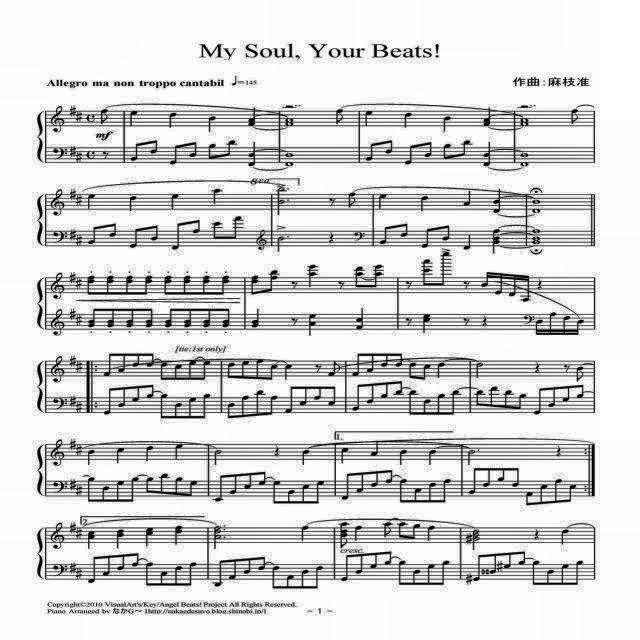Bass-clef: (52, 228, 66, 244), (50, 395, 66, 409), (51, 562, 65, 578), (51, 146, 64, 160), (522, 314, 534, 326), (52, 480, 64, 492), (353, 231, 365, 241)
Diez: (74, 484, 86, 496), (67, 104, 77, 118), (68, 188, 78, 200), (68, 354, 78, 366), (74, 401, 84, 413), (74, 528, 84, 540), (68, 562, 78, 574), (463, 572, 473, 584), (76, 110, 84, 124), (70, 145, 78, 159), (76, 193, 84, 207), (68, 478, 76, 492), (68, 438, 78, 449), (69, 523, 79, 533), (76, 150, 84, 162), (70, 228, 78, 240), (76, 234, 84, 246), (68, 272, 76, 284), (76, 278, 84, 290), (68, 308, 76, 320), (75, 361, 83, 373), (68, 394, 76, 406), (75, 445, 83, 457), (76, 568, 84, 580), (496, 560, 504, 572), (77, 314, 83, 326), (466, 535, 472, 545)
Eighth-note: (436, 250, 450, 286), (168, 142, 188, 166), (172, 221, 188, 251), (446, 390, 462, 418), (284, 386, 300, 414), (196, 392, 212, 420), (102, 387, 118, 415), (86, 476, 102, 504), (340, 472, 356, 500), (467, 466, 483, 494), (214, 559, 230, 587), (225, 216, 243, 240), (533, 386, 547, 416), (88, 554, 102, 584), (270, 564, 286, 590), (570, 559, 586, 585), (352, 383, 366, 412), (404, 143, 422, 165), (129, 227, 147, 249), (159, 392, 173, 420), (215, 474, 229, 502), (341, 554, 355, 582), (408, 390, 424, 414), (350, 352, 366, 376), (186, 396, 202, 420), (438, 478, 454, 502), (228, 556, 244, 580), (436, 560, 452, 584), (125, 477, 139, 503), (397, 560, 411, 586), (531, 560, 545, 586), (129, 142, 147, 162), (508, 393, 528, 411), (260, 363, 280, 381), (422, 227, 438, 249), (378, 224, 394, 246), (264, 395, 280, 417), (196, 359, 212, 381), (174, 476, 190, 498), (252, 390, 264, 418), (271, 480, 285, 504), (145, 562, 159, 586), (183, 562, 197, 586), (310, 565, 324, 589), (311, 481, 325, 504), (211, 280, 231, 296), (482, 467, 498, 487), (562, 483, 578, 503), (400, 478, 412, 504), (426, 562, 439, 586), (362, 383, 376, 405), (187, 359, 201, 381), (301, 483, 315, 505), (163, 279, 180, 297), (89, 308, 108, 324), (115, 481, 128, 504), (434, 226, 452, 242), (124, 279, 140, 297), (165, 308, 183, 324), (185, 308, 203, 324), (203, 308, 221, 324), (262, 276, 280, 292), (368, 271, 384, 289), (436, 392, 448, 416), (104, 352, 116, 376), (160, 472, 172, 496), (230, 472, 242, 496), (356, 471, 369, 493), (366, 142, 380, 162), (458, 138, 472, 158), (88, 225, 102, 245), (241, 360, 255, 380), (538, 484, 552, 504), (474, 554, 484, 582), (490, 386, 502, 409), (208, 144, 225, 160), (182, 479, 198, 496), (544, 386, 556, 408), (325, 385, 337, 407), (254, 359, 266, 381), (428, 481, 440, 503), (560, 564, 572, 586), (554, 478, 564, 504), (86, 280, 102, 296), (138, 280, 154, 296), (108, 308, 124, 324), (126, 308, 142, 324), (138, 308, 154, 324), (214, 308, 230, 324), (388, 380, 404, 396), (406, 523, 422, 539), (416, 364, 432, 380), (222, 139, 236, 157), (212, 222, 226, 240), (559, 385, 573, 403), (226, 361, 240, 379), (114, 387, 126, 408), (100, 485, 114, 503), (504, 389, 516, 409), (296, 386, 308, 406), (363, 352, 375, 372), (115, 354, 127, 374), (174, 402, 186, 422), (104, 556, 116, 576), (300, 570, 312, 590), (356, 554, 368, 574), (506, 550, 518, 570), (421, 140, 434, 158), (371, 470, 384, 488), (511, 467, 522, 488), (146, 138, 160, 154), (382, 138, 396, 154), (106, 280, 120, 296), (183, 280, 197, 296), (202, 280, 216, 296), (251, 280, 265, 296), (127, 386, 141, 402), (243, 472, 257, 488), (159, 570, 173, 586), (243, 558, 257, 574), (371, 552, 385, 568), (174, 565, 184, 587), (186, 141, 198, 159), (442, 143, 454, 161), (346, 191, 358, 209), (354, 272, 366, 290), (423, 397, 435, 415), (174, 364, 186, 382), (160, 363, 172, 381), (146, 477, 158, 495), (412, 568, 424, 586), (546, 568, 558, 586), (408, 362, 420, 380), (190, 218, 202, 234), (148, 225, 160, 241), (106, 222, 118, 238), (574, 384, 586, 400), (376, 382, 388, 398), (226, 402, 238, 418), (328, 361, 340, 377), (143, 352, 155, 368), (129, 352, 141, 368), (142, 384, 154, 400), (254, 470, 266, 486), (288, 490, 300, 506), (384, 468, 396, 484), (414, 488, 426, 504), (498, 466, 510, 482), (524, 490, 536, 506), (129, 552, 141, 568), (286, 574, 298, 590), (568, 108, 580, 124), (391, 353, 404, 367), (476, 389, 486, 407), (117, 553, 127, 571), (242, 395, 250, 417), (397, 223, 409, 237), (310, 386, 322, 400), (378, 353, 390, 367), (380, 551, 392, 565), (334, 109, 344, 125), (575, 366, 585, 382), (339, 532, 349, 548), (398, 522, 408, 538), (489, 554, 497, 574), (516, 550, 526, 566), (100, 108, 108, 124), (383, 522, 391, 538), (256, 556, 264, 570), (423, 268, 429, 286)
Eighth-rest: (103, 150, 111, 160), (290, 280, 298, 290), (338, 280, 346, 290), (404, 280, 412, 290), (562, 364, 572, 372), (290, 318, 298, 327), (314, 363, 322, 372), (328, 198, 336, 206), (463, 280, 471, 288), (463, 318, 471, 326), (406, 318, 414, 326)
Full-note: (530, 208, 544, 215), (282, 152, 296, 158), (284, 161, 296, 167), (520, 117, 530, 123), (532, 228, 542, 234), (531, 235, 541, 241), (283, 118, 297, 122), (284, 122, 296, 126), (518, 122, 530, 126), (518, 162, 530, 166), (520, 152, 528, 158), (530, 200, 542, 204), (532, 240, 540, 244)
Half-note: (474, 362, 486, 378), (275, 199, 285, 215), (275, 236, 285, 252), (213, 450, 223, 464), (468, 448, 476, 464), (276, 186, 286, 198), (214, 535, 222, 549), (472, 536, 480, 550), (214, 528, 222, 536), (472, 530, 480, 534), (472, 533, 480, 537)
Half-rest: (280, 104, 296, 108), (516, 105, 532, 109)
Quarter-note: (418, 195, 432, 213), (166, 111, 178, 129), (363, 109, 375, 127), (144, 444, 156, 462), (338, 446, 350, 464), (114, 533, 128, 547), (128, 110, 140, 126), (84, 194, 96, 210), (169, 194, 181, 210), (377, 194, 389, 210), (307, 320, 319, 336), (422, 316, 434, 332), (213, 187, 223, 205), (428, 448, 437, 468), (300, 524, 310, 542), (353, 524, 363, 542), (560, 527, 570, 545), (128, 196, 140, 210), (300, 450, 312, 464), (86, 535, 98, 549), (116, 446, 125, 464), (372, 440, 381, 458), (207, 116, 217, 132), (403, 112, 413, 128), (443, 115, 453, 131), (248, 142, 258, 158), (462, 191, 472, 207), (437, 362, 447, 378), (175, 444, 185, 460), (398, 449, 408, 465), (491, 240, 502, 254), (493, 188, 502, 204), (308, 271, 316, 289), (283, 364, 293, 378), (483, 107, 491, 123), (483, 142, 491, 158), (464, 234, 472, 250), (252, 308, 260, 324), (356, 306, 364, 322), (427, 524, 435, 540), (248, 107, 256, 121), (174, 530, 182, 544), (88, 449, 94, 466), (308, 313, 318, 323), (145, 532, 153, 544), (230, 74, 238, 86), (491, 228, 502, 236), (248, 157, 256, 167), (494, 203, 502, 213), (308, 263, 316, 273), (484, 159, 492, 167), (356, 322, 364, 330), (340, 522, 348, 530)
Quarter-rest: (272, 444, 282, 458), (554, 446, 564, 458), (328, 231, 336, 245), (482, 315, 490, 329), (532, 361, 540, 375), (536, 278, 542, 290), (534, 527, 538, 541)
Sixteenth-note: (547, 312, 563, 336), (508, 274, 524, 296), (495, 272, 509, 296), (562, 314, 576, 336), (534, 319, 550, 337), (569, 318, 585, 336), (520, 274, 530, 302), (482, 271, 498, 287)
Treble-clef: (47, 308, 67, 336), (50, 271, 66, 301), (50, 106, 66, 134), (48, 188, 64, 216), (50, 356, 66, 384), (50, 438, 66, 466), (50, 522, 66, 550), (255, 228, 269, 252)
